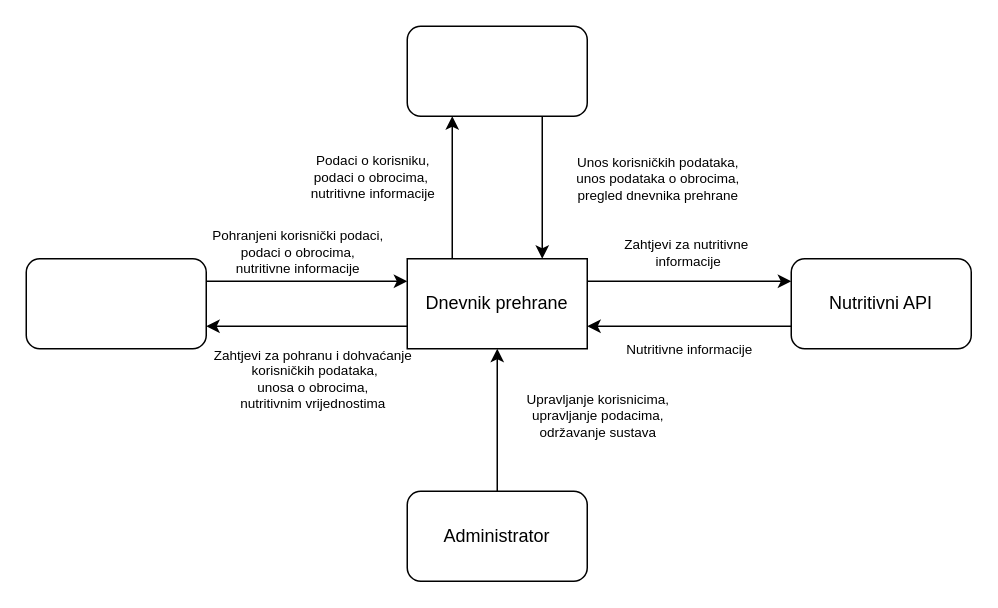
The diagram is 998 pixels wide and 608 high, and some of its shapes have lost their labels. Here are the shapes that lost their labels. From the top down, the box of each, then its label:
(406, 25, 587, 116): Korisnik
(25, 257, 206, 349): Baza podataka
